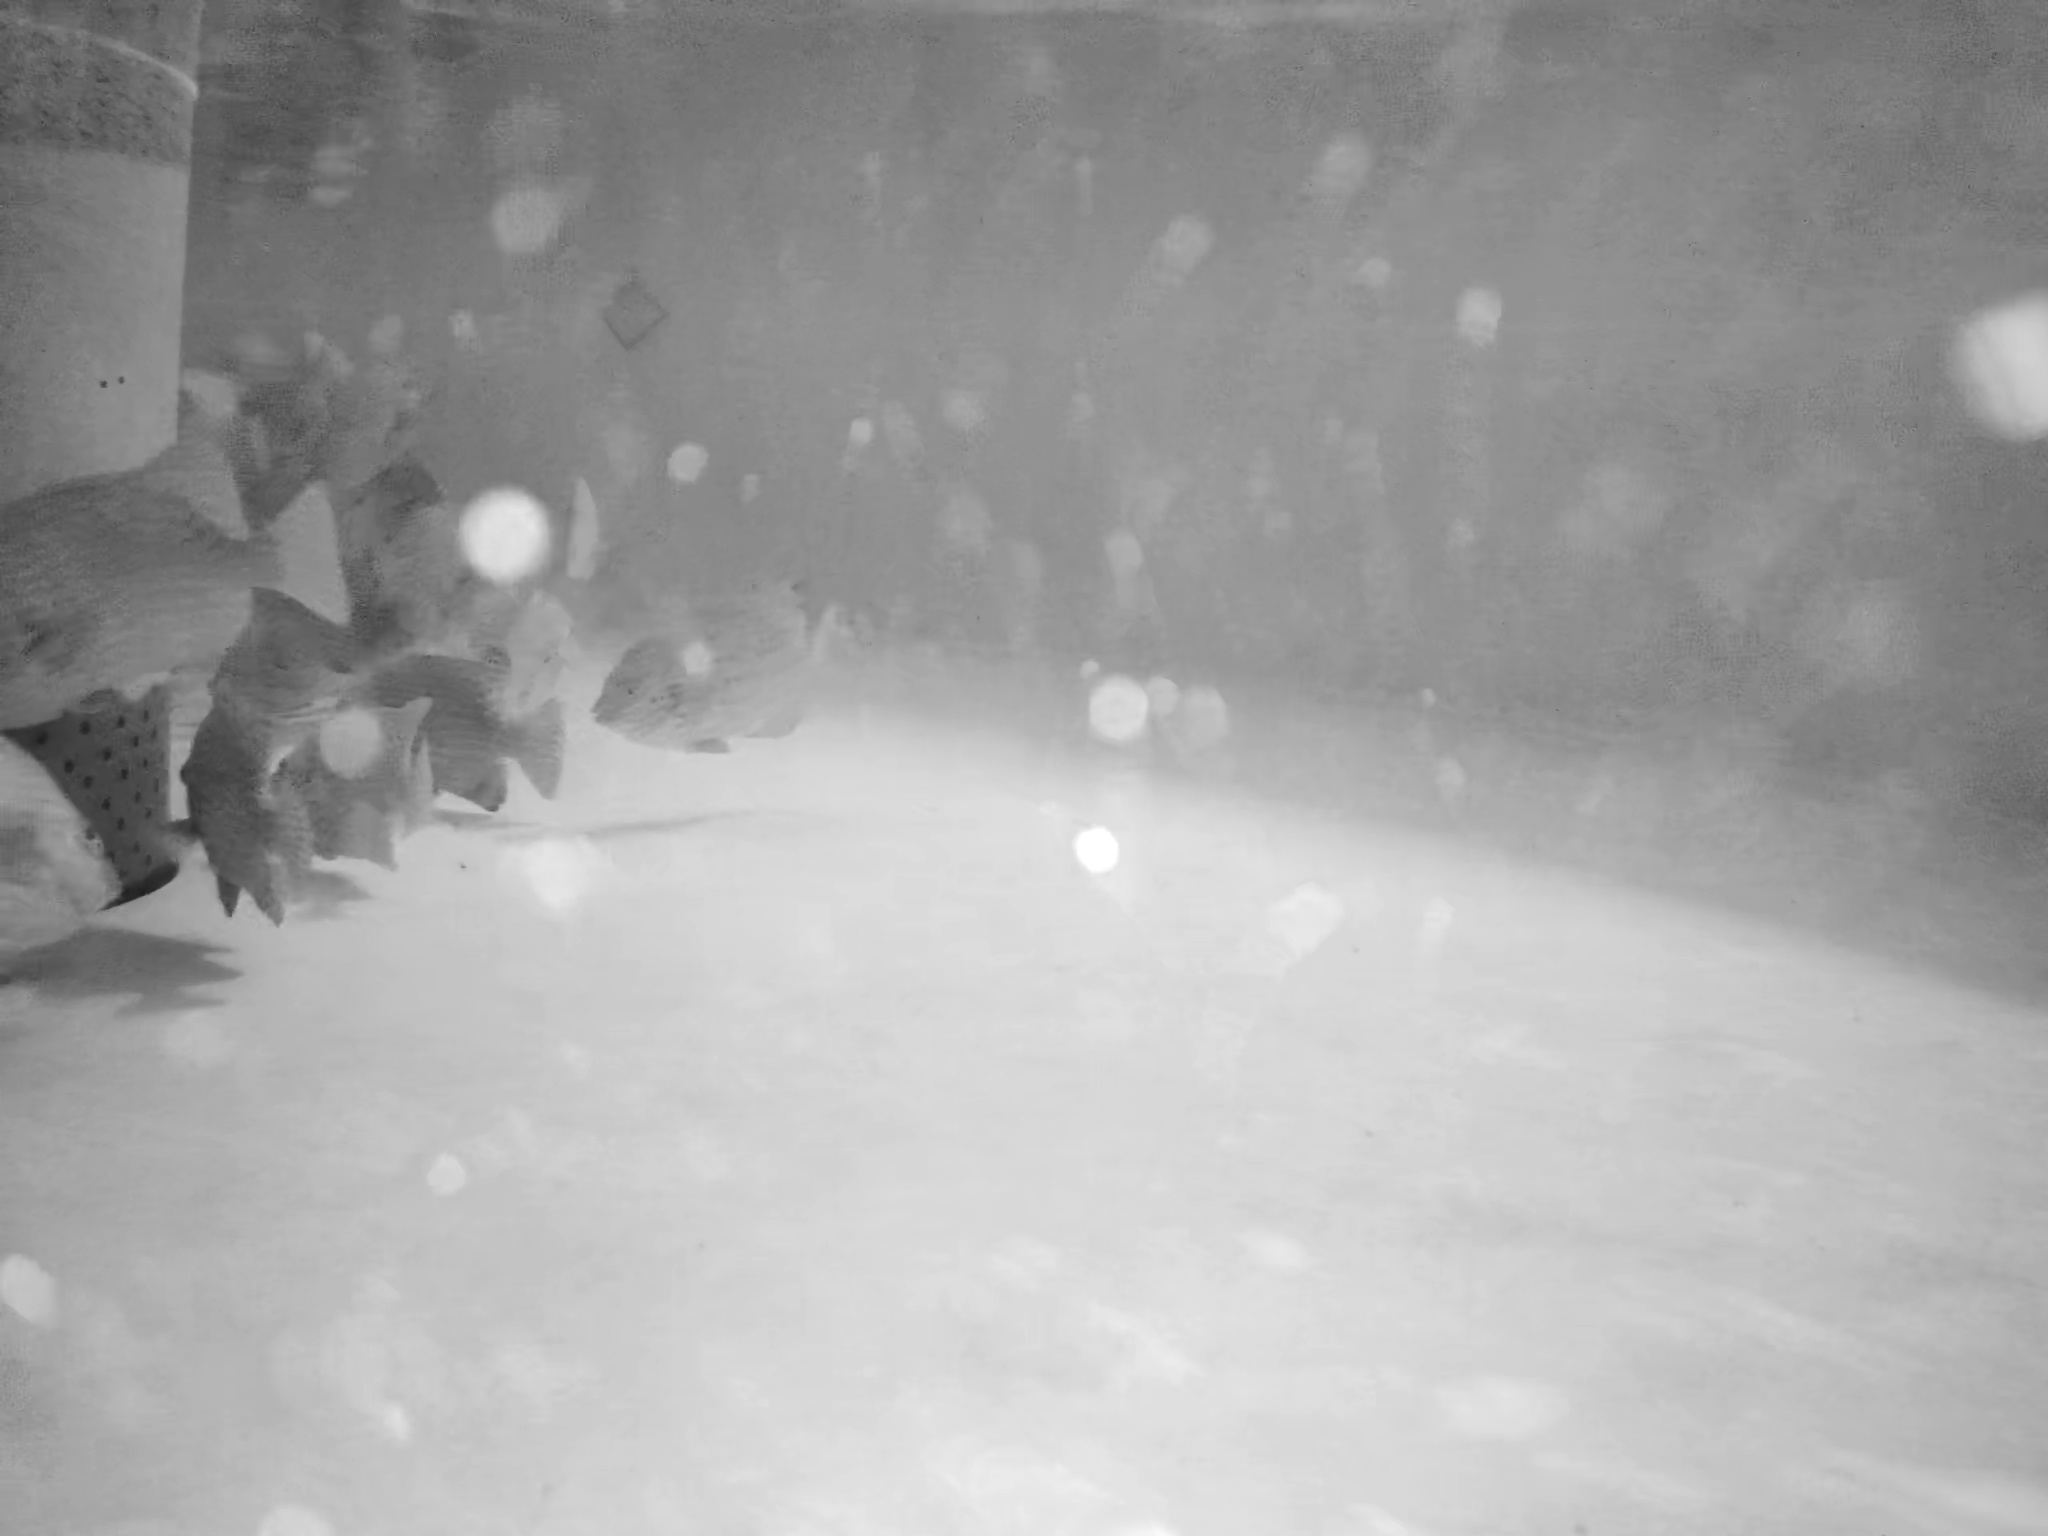fish: (10, 444, 285, 694), (581, 602, 908, 749), (358, 620, 576, 829), (173, 674, 323, 954), (2, 713, 148, 971), (264, 691, 434, 873), (214, 374, 350, 507), (326, 353, 461, 458)
